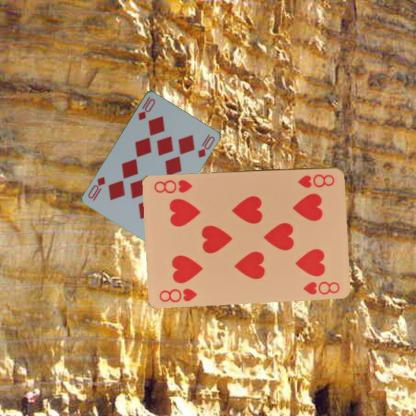10d: (135, 94, 157, 121)
8h: (156, 285, 198, 303), (295, 171, 336, 189)
